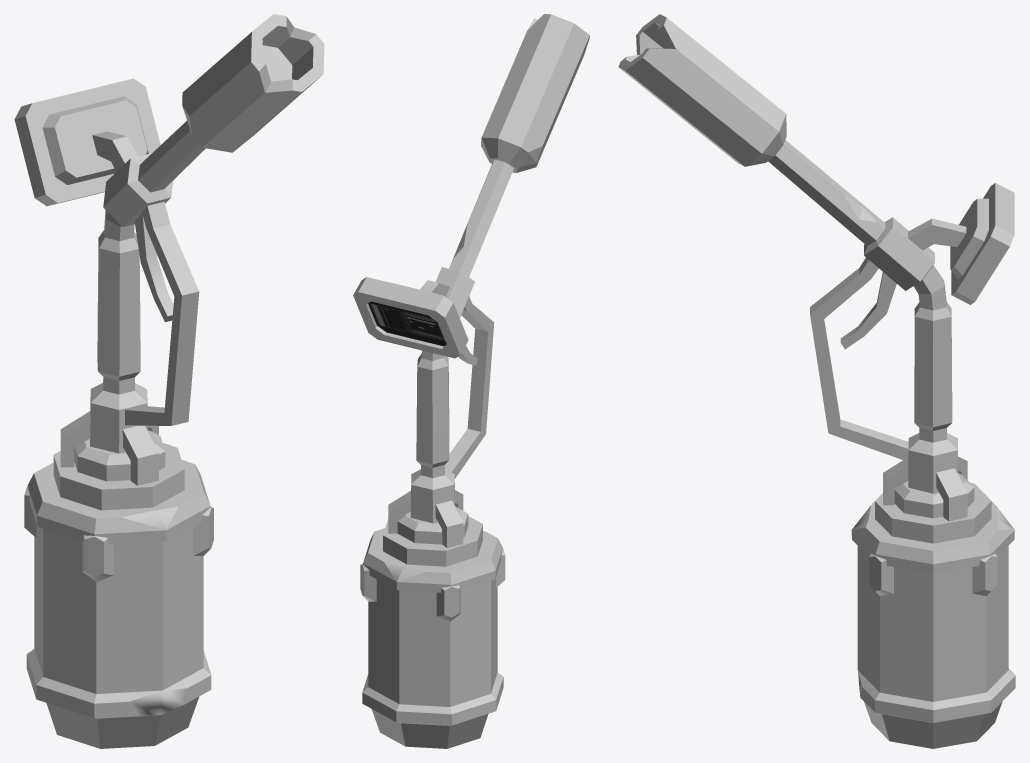
Rendered from SM_Wep_Blow_Torch_01.fbx.
3 views of the same model, side by side, from view 1: azimuth 30°, elevation 25°; view 2: azimuth 150°, elevation 25°; view 3: azimuth 270°, elevation 25° (orthographic). The views are drawn at different scales.
Parts seen in each view (by area): view 1: SM_Wep_Blow_Torch_01; view 2: SM_Wep_Blow_Torch_01; view 3: SM_Wep_Blow_Torch_01.
Part boxes in pixels (x1=…): SM_Wep_Blow_Torch_01: x1=14, y1=14, x2=324, y2=748; SM_Wep_Blow_Torch_01: x1=353, y1=14, x2=589, y2=748; SM_Wep_Blow_Torch_01: x1=618, y1=14, x2=1015, y2=748.
Bounding box in the file's own units: 18.32 × 86.57 × 44.19.
